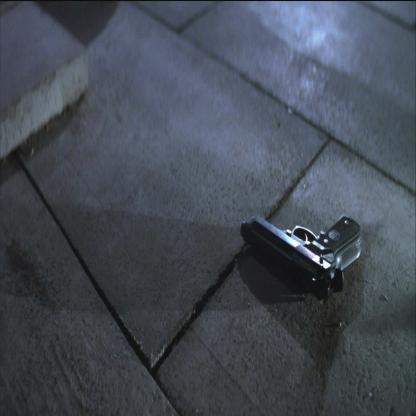gun: (235, 188, 369, 317)
